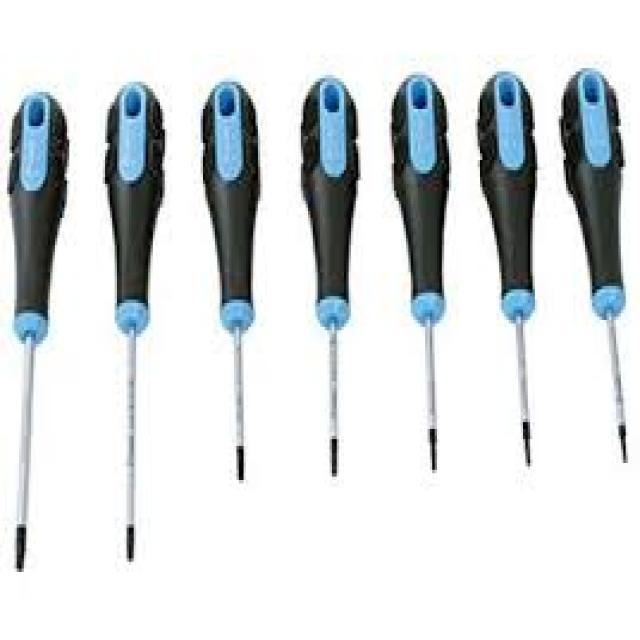screwdriver: (0, 80, 76, 577), (554, 64, 640, 473), (100, 72, 170, 566), (472, 68, 542, 477), (197, 70, 264, 496), (296, 70, 361, 482), (386, 71, 450, 476)
